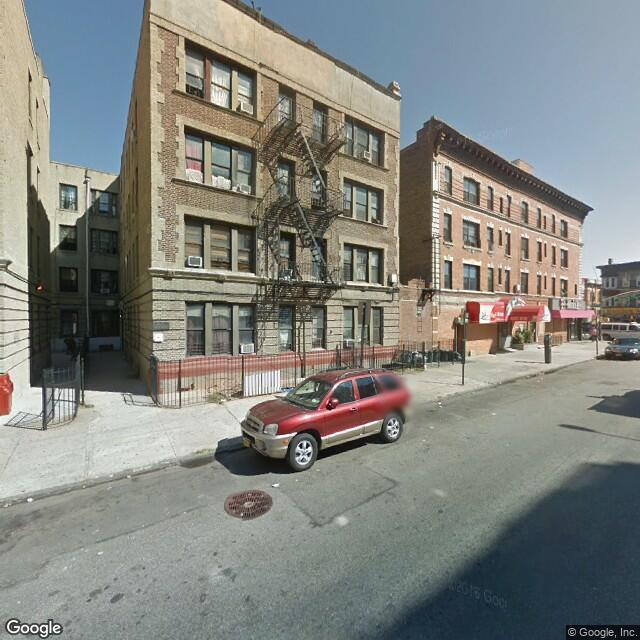litter: (429, 397, 447, 413), (106, 469, 124, 484), (266, 480, 286, 492), (20, 490, 37, 504)
